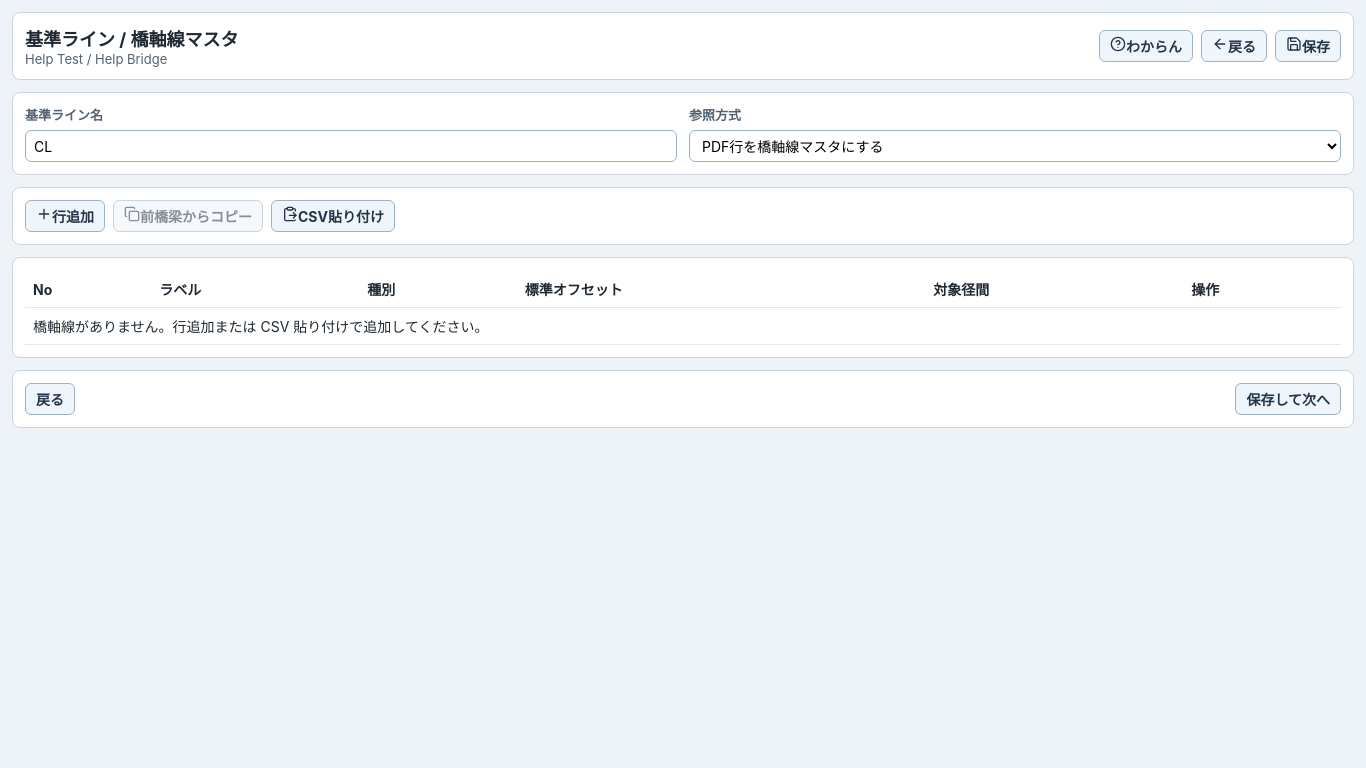
Scenario: LineMasterPage › opens help modal
Click the button with test id "line-master-help-open" at (1146, 46), box [1099,30,1193,62]
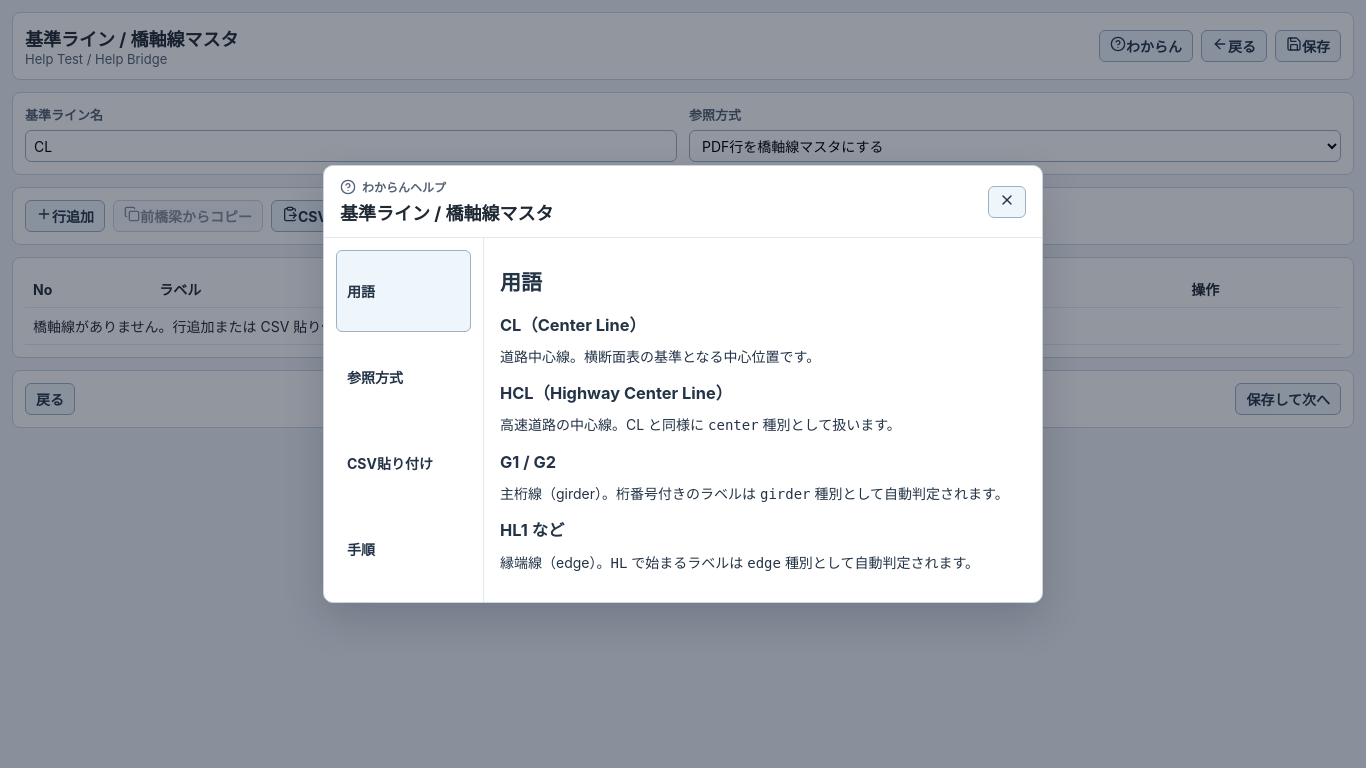
Result: the dialog with test id "line-master-help-modal" is shown at [323,165,1043,603]
